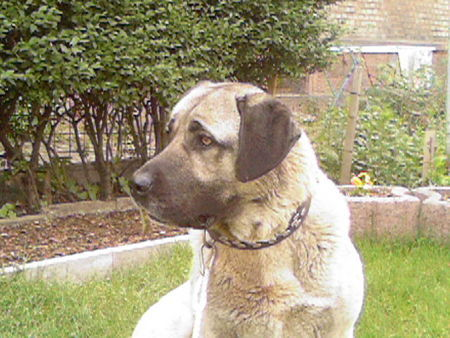kangal: (127, 81, 364, 338)
